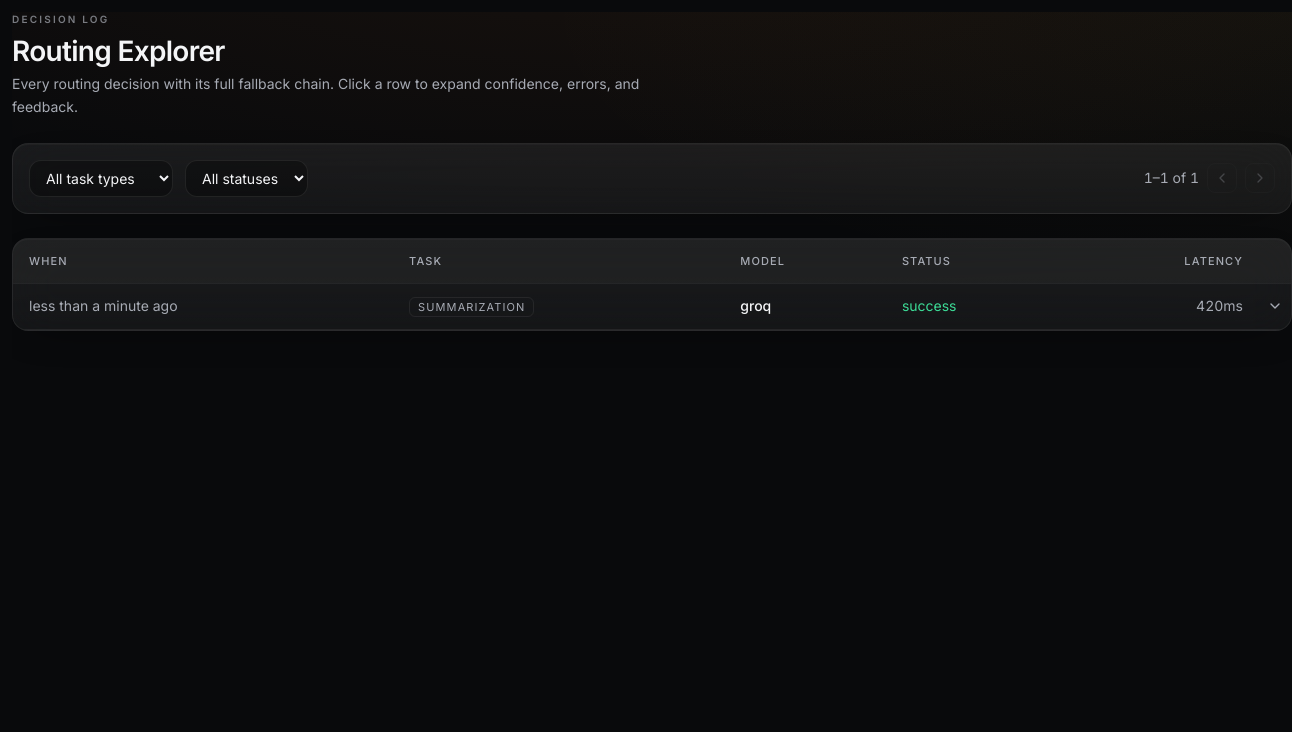
RoutingExplorer feedback widget › shows the 🧠 ML-Assisted badge for ml_hybrid routing_method
Click the 2nd row at (652, 306), box [13,283,1291,329]
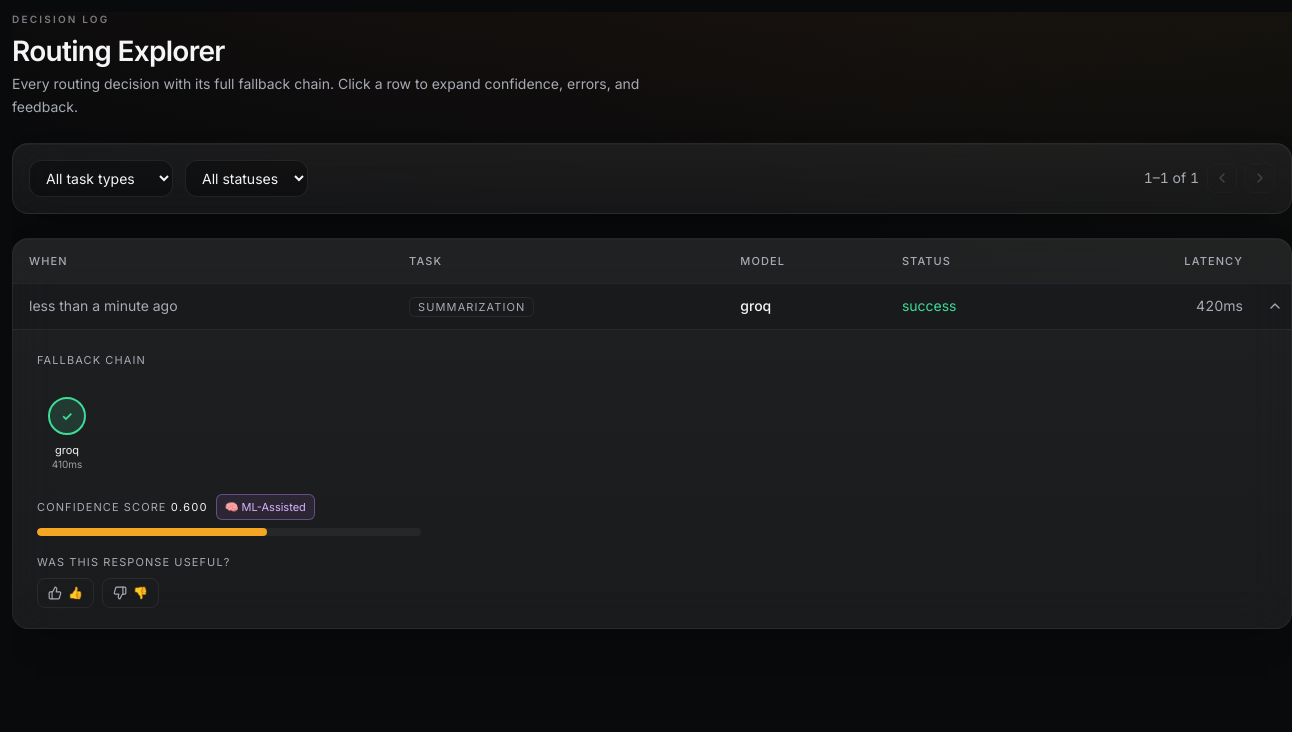
Result: the text "🧠 ML-Assisted" is shown at [216,494,315,520]
